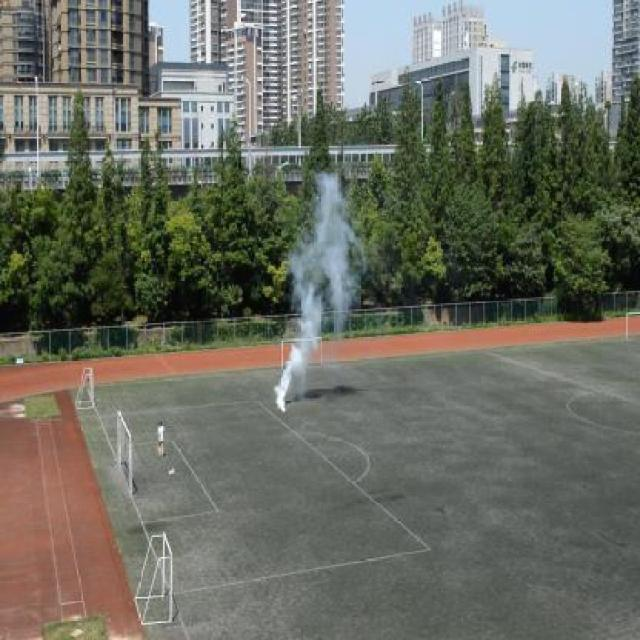Smoke: (272, 166, 364, 406)
